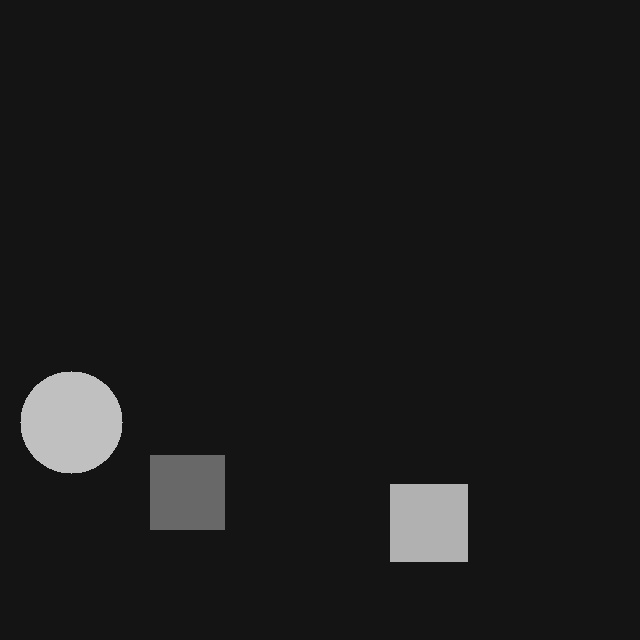circle: (20, 371, 122, 473)
square: (390, 484, 467, 561), (150, 455, 224, 529)
